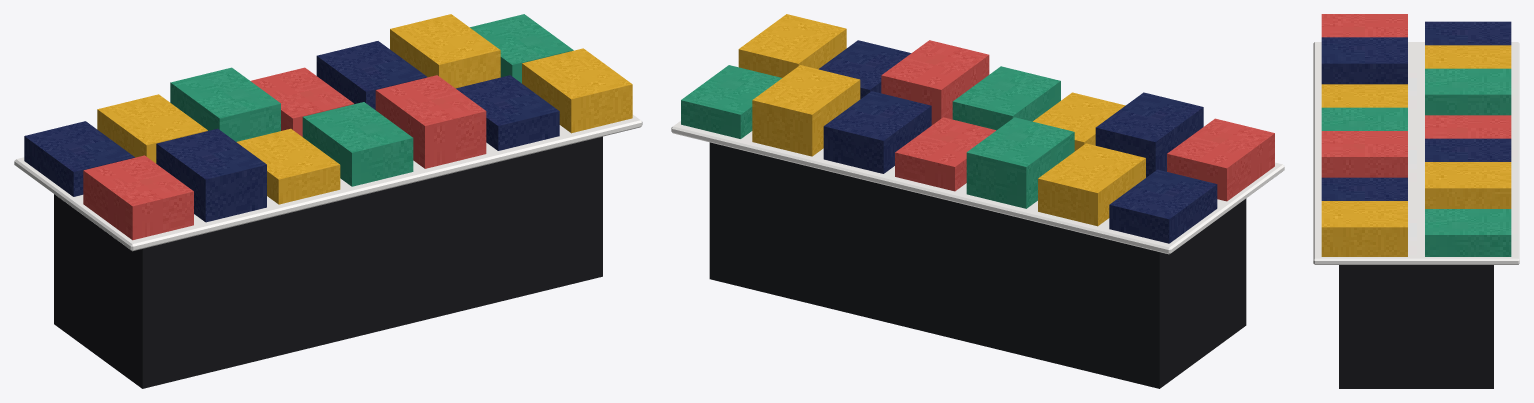
3 renders of one model, left to right at view 1: azimuth 30°, elevation 25°; view 2: azimuth 150°, elevation 25°; view 3: azimuth 270°, elevation 25°, orthographic. The views are drawn at different scales.
Parts seen in each view (by area): view 1: Decor_folded_clothes_table; view 2: Decor_folded_clothes_table; view 3: Decor_folded_clothes_table.
Boxes of the visible parts, bbox=[...] form: Decor_folded_clothes_table: bbox=[14, 14, 642, 388]; Decor_folded_clothes_table: bbox=[671, 14, 1284, 388]; Decor_folded_clothes_table: bbox=[1313, 14, 1519, 388].
Size of the model in its own units: 3 by 1.14 by 1.2.
Materials: 6 (6 with a texture image).
